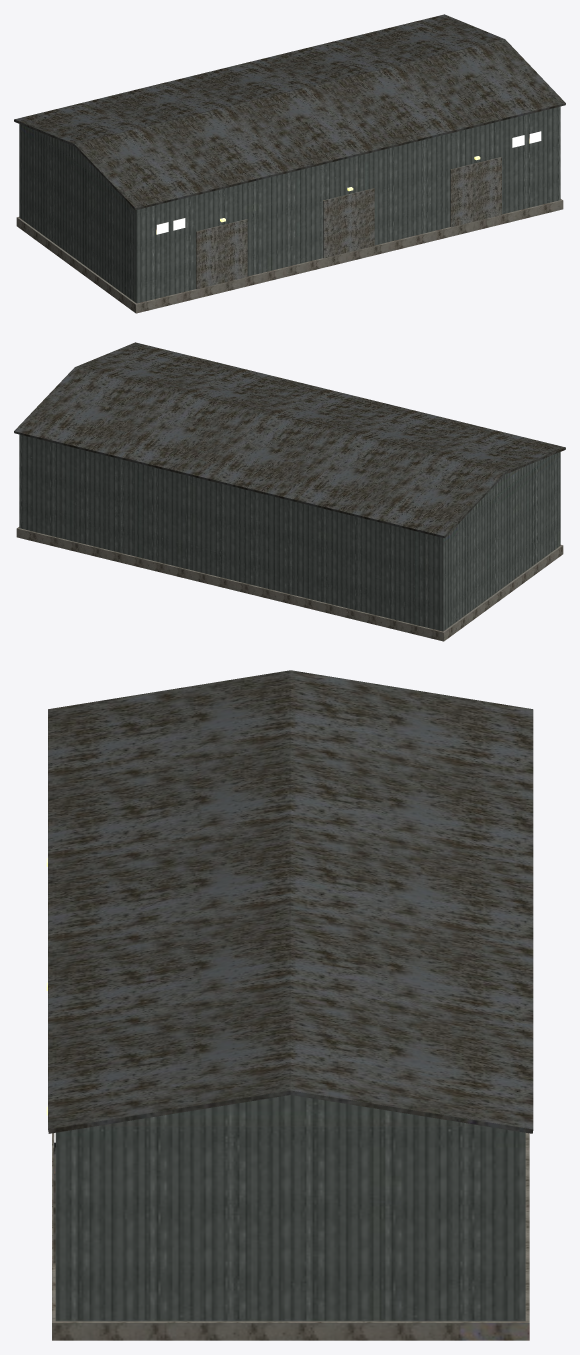
The model's file is warehouse.glb.
3 renders of one model, top to bottom at view 1: azimuth 30°, elevation 25°; view 2: azimuth 150°, elevation 25°; view 3: azimuth 270°, elevation 25°, orthographic. The views are drawn at different scales.
Parts seen in each view (by area): view 1: warehouse; view 2: warehouse; view 3: warehouse.
Boxes of the visible parts, x1,y1,x2,y2 form: warehouse: (14,14,565,313); warehouse: (14,342,565,641); warehouse: (46,670,533,1340).
Bounding box in the file's own units: 50.8 × 14.2 × 24.88.
Materials: 1 (1 with a texture image).
